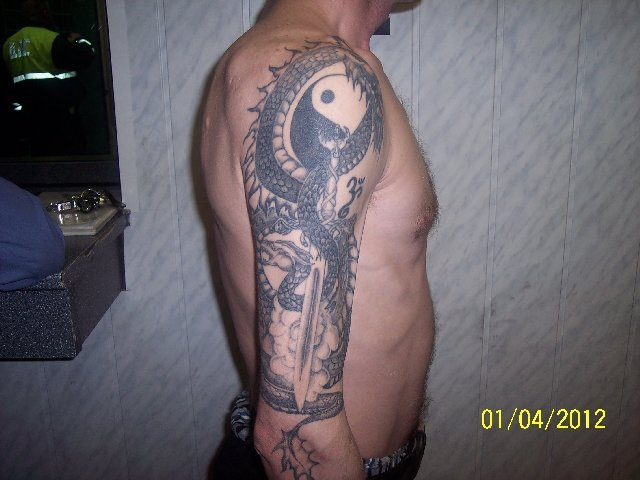tatu7_zmeya: (251, 36, 386, 465)
